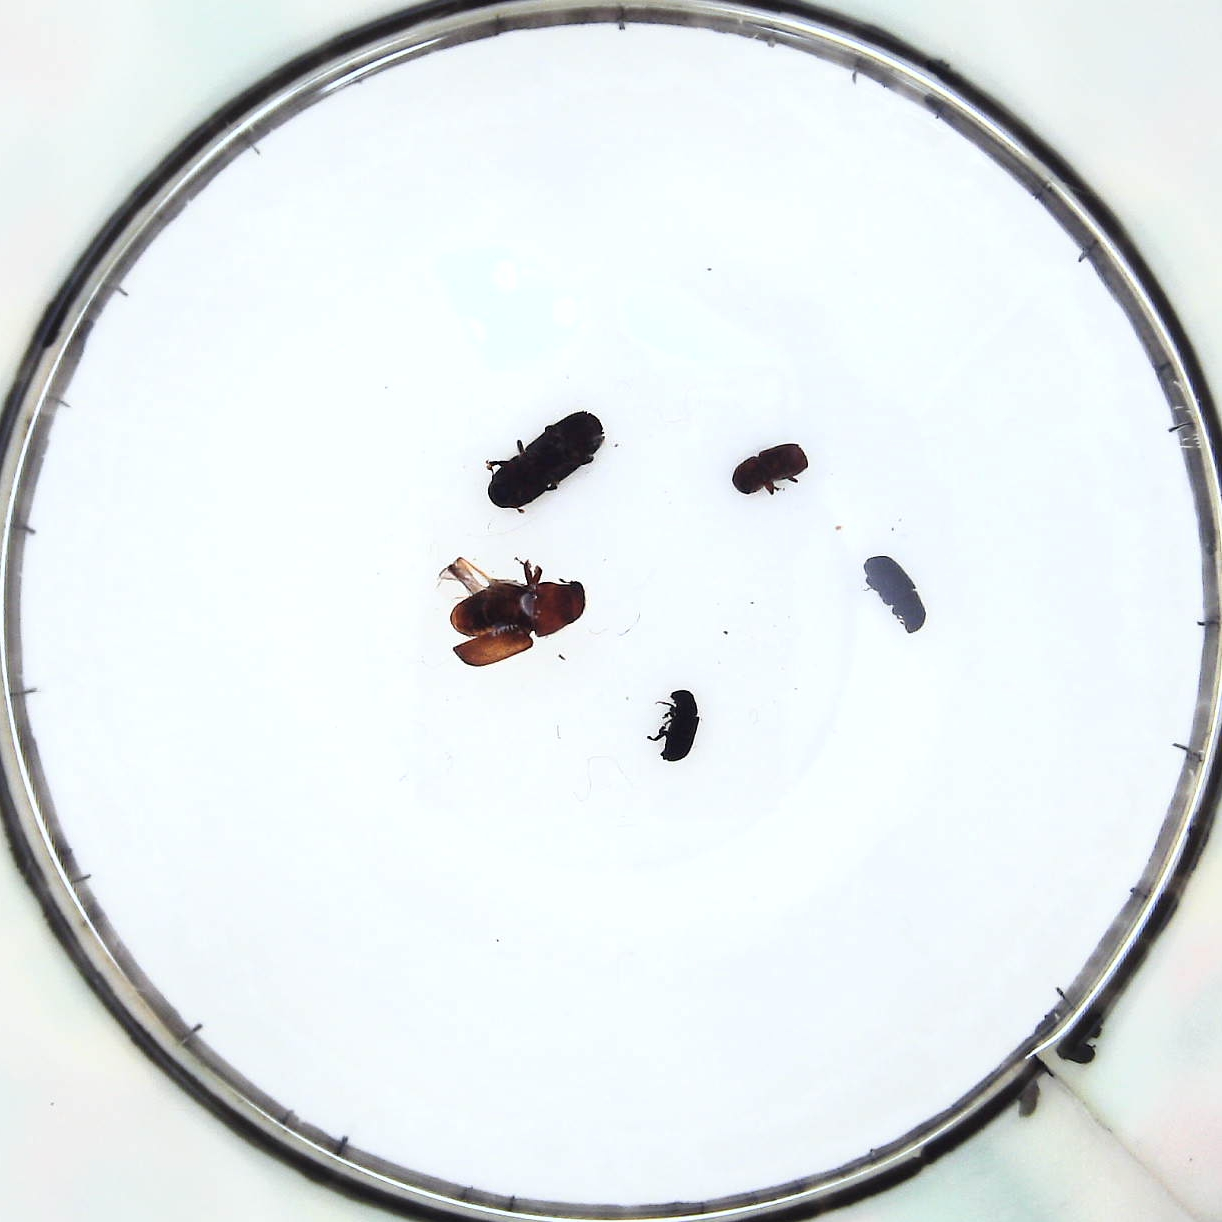Boerner: (487, 407, 604, 513)
Leconte: (440, 551, 582, 675)
Linnaeus: (733, 444, 803, 497)
armandi: (861, 556, 923, 631)
coleoptera: (660, 678, 701, 758)
